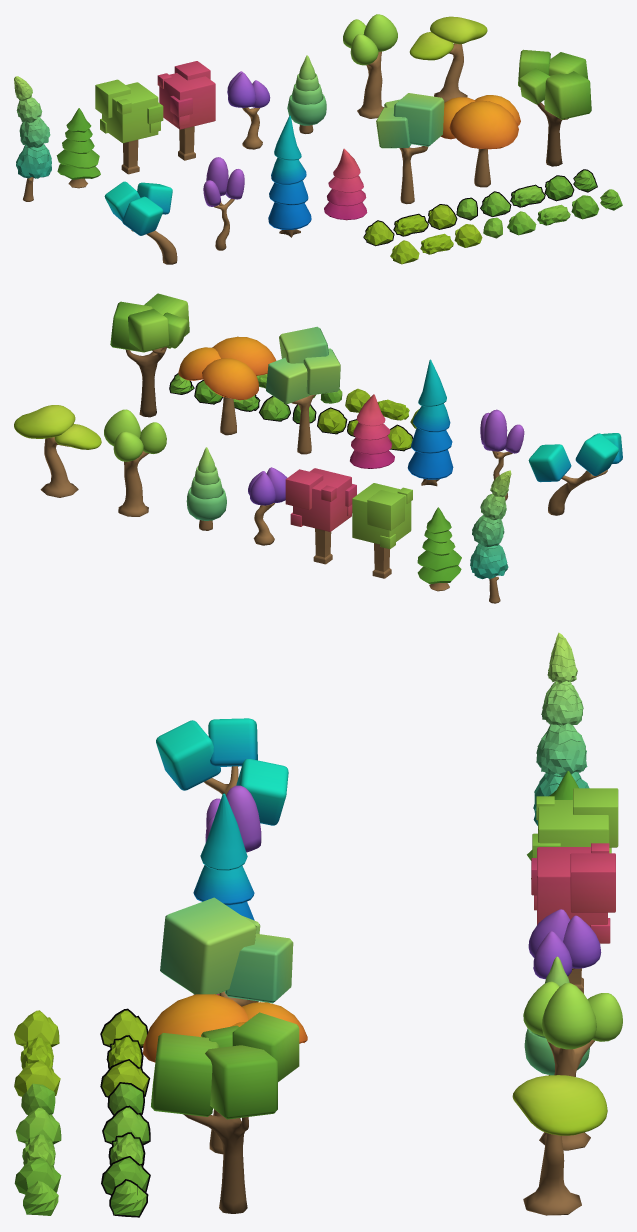
The model's file is assets.glb.
3 views of the same model, one above another, from view 1: azimuth 30°, elevation 25°; view 2: azimuth 150°, elevation 25°; view 3: azimuth 270°, elevation 25° (orthographic). The views are drawn at different scales.
Parts seen in each view (by area): view 1: Plane.006, Plane.014, Plane.002, Cube.004, Cube.002, Cone.002, Plane.012, Icosphere.001, Plane.013, Plane.015, Circle.001, Plane.011 (+15 smaller); view 2: Plane.002, Plane.006, Plane.014, Cube.002, Cube.004, Cone.002, Plane.013, Plane.012, Icosphere.001, Plane.015, Circle.001, Plane.011 (+7 smaller); view 3: Plane.006, Plane.002, Plane.012, Plane.013, Cube.002, Icosphere.001, Plane.015, Cube.004, Plane.014, Cone.002, Icosphere.011, Plane.009 (+12 smaller).
Boxes of the visible parts, bbox=[...] form: Plane.006: bbox=[518, 49, 591, 166]; Plane.014: bbox=[441, 95, 520, 187]; Plane.002: bbox=[376, 93, 444, 204]; Cube.004: bbox=[95, 79, 163, 174]; Cube.002: bbox=[157, 61, 215, 160]; Cone.002: bbox=[268, 115, 311, 237]; Plane.012: bbox=[104, 181, 177, 264]; Icosphere.001: bbox=[343, 14, 397, 118]; Plane.013: bbox=[409, 16, 487, 102]; Plane.015: bbox=[14, 76, 51, 201]; Circle.001: bbox=[56, 108, 100, 188]; Plane.011: bbox=[324, 148, 367, 220]; Plane.002: bbox=[266, 326, 340, 454]; Plane.006: bbox=[110, 293, 189, 417]; Plane.014: bbox=[178, 336, 276, 435]; Cube.002: bbox=[285, 468, 356, 564]; Cube.004: bbox=[352, 483, 412, 578]; Cone.002: bbox=[407, 359, 453, 486]; Plane.013: bbox=[14, 405, 101, 497]; Plane.012: bbox=[528, 433, 622, 515]; Icosphere.001: bbox=[104, 409, 166, 516]; Plane.015: bbox=[470, 470, 511, 603]; Circle.001: bbox=[417, 507, 461, 591]; Plane.011: bbox=[350, 394, 394, 468]; Plane.006: bbox=[151, 1012, 299, 1213]; Plane.002: bbox=[160, 897, 293, 1006]; Plane.012: bbox=[156, 718, 288, 825]; Plane.013: bbox=[512, 1075, 607, 1215]; Cube.002: bbox=[531, 843, 615, 993]; Icosphere.001: bbox=[523, 981, 622, 1150]; Plane.015: bbox=[533, 632, 589, 825]; Cube.004: bbox=[532, 788, 618, 857]; Plane.014: bbox=[143, 994, 307, 1154]; Cone.002: bbox=[193, 793, 254, 920]; Icosphere.011: bbox=[528, 909, 601, 979]; Plane.009: bbox=[205, 785, 261, 852].
Size of the model in its own units: 21.91 by 5.64 by 14.27.
Materials: 16 (15 with a texture image).
